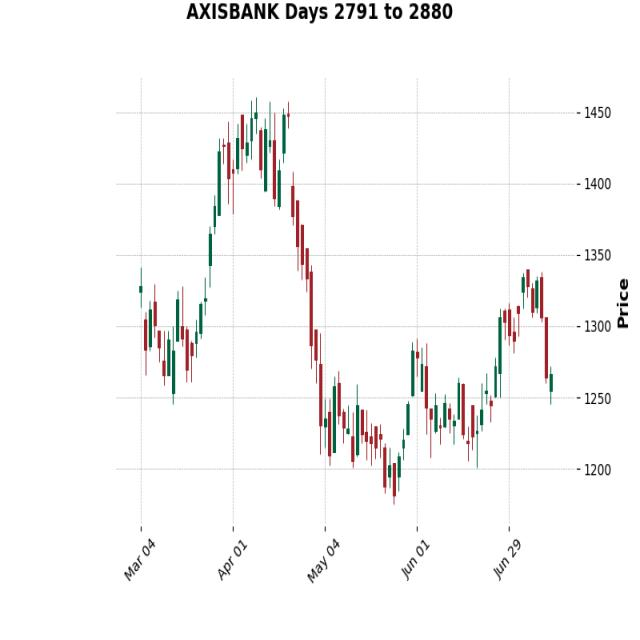Symmetric Triangle: (390, 335, 500, 495)
